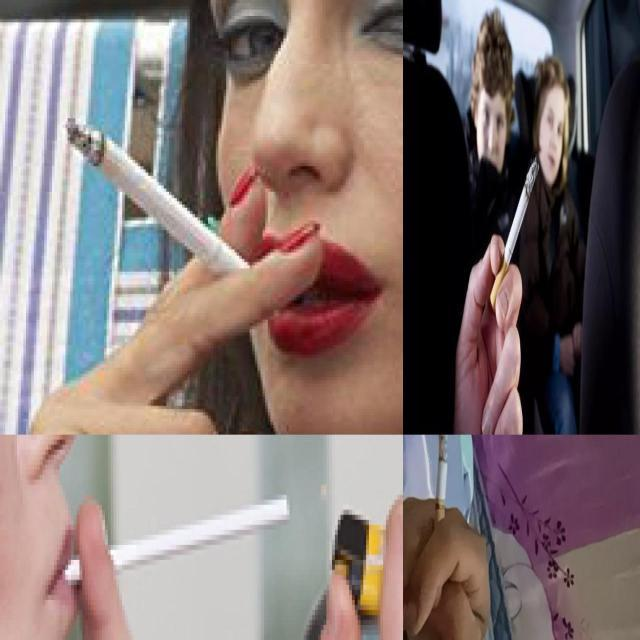smoking: (55, 106, 239, 272), (61, 496, 290, 582), (490, 158, 540, 312), (432, 435, 448, 561)
